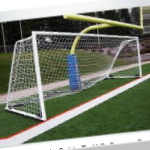goals: (6, 29, 143, 121)
